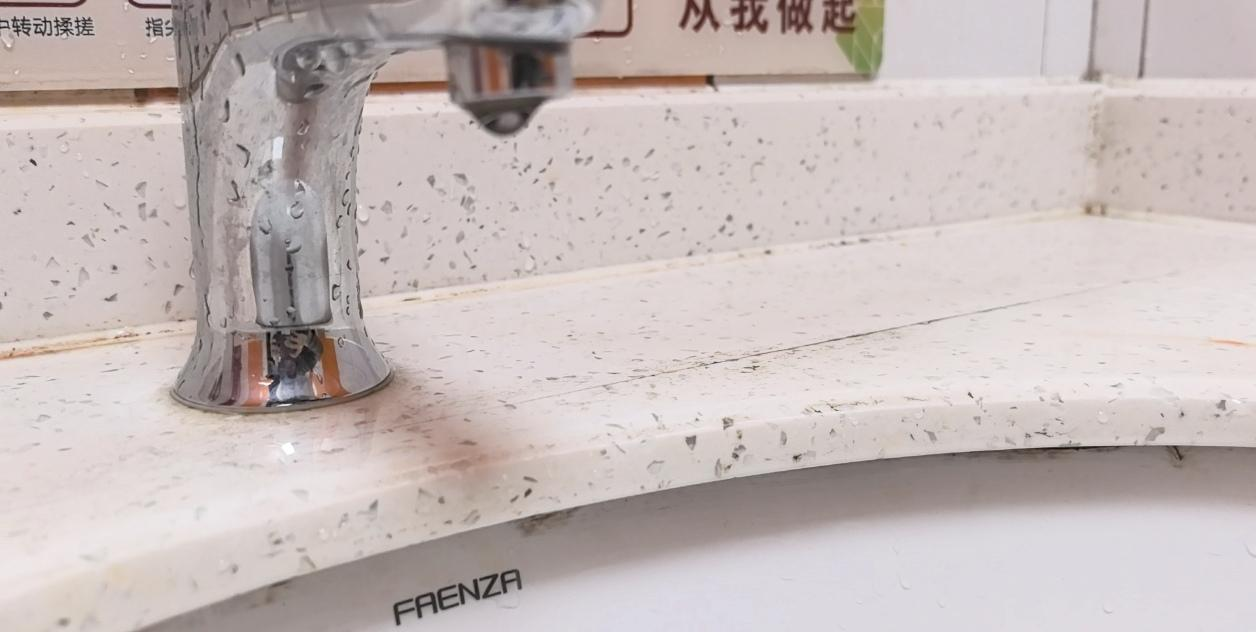water drop: (457, 96, 550, 140)
